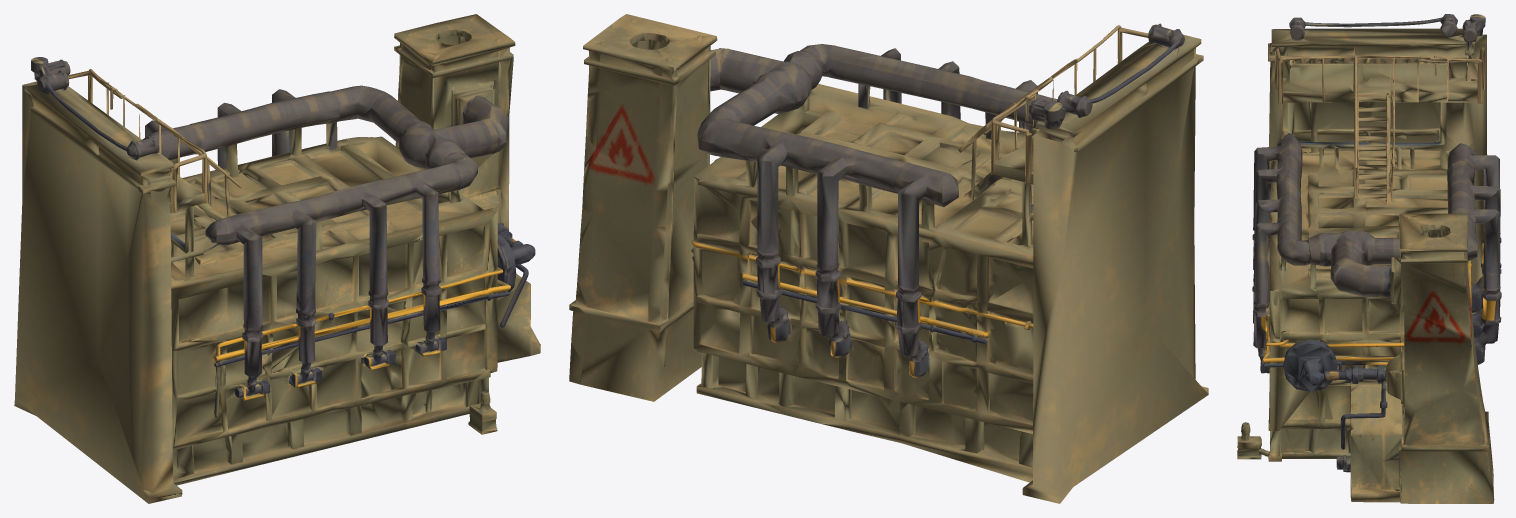
3 renders of one model, left to right at view 1: azimuth 30°, elevation 25°; view 2: azimuth 150°, elevation 25°; view 3: azimuth 270°, elevation 25°, orthographic. The views are drawn at different scales.
Visible parts, largest first — view 1: Mesh_0.002; view 2: Mesh_0.002; view 3: Mesh_0.002.
Part boxes in pixels (x1,y1,x2,y2): Mesh_0.002: (14, 14, 540, 503); Mesh_0.002: (569, 14, 1208, 503); Mesh_0.002: (1237, 14, 1501, 503).
Bounding box in the file's own units: 13.4 × 10 × 7.82.
Materials: 1 (1 with a texture image).
